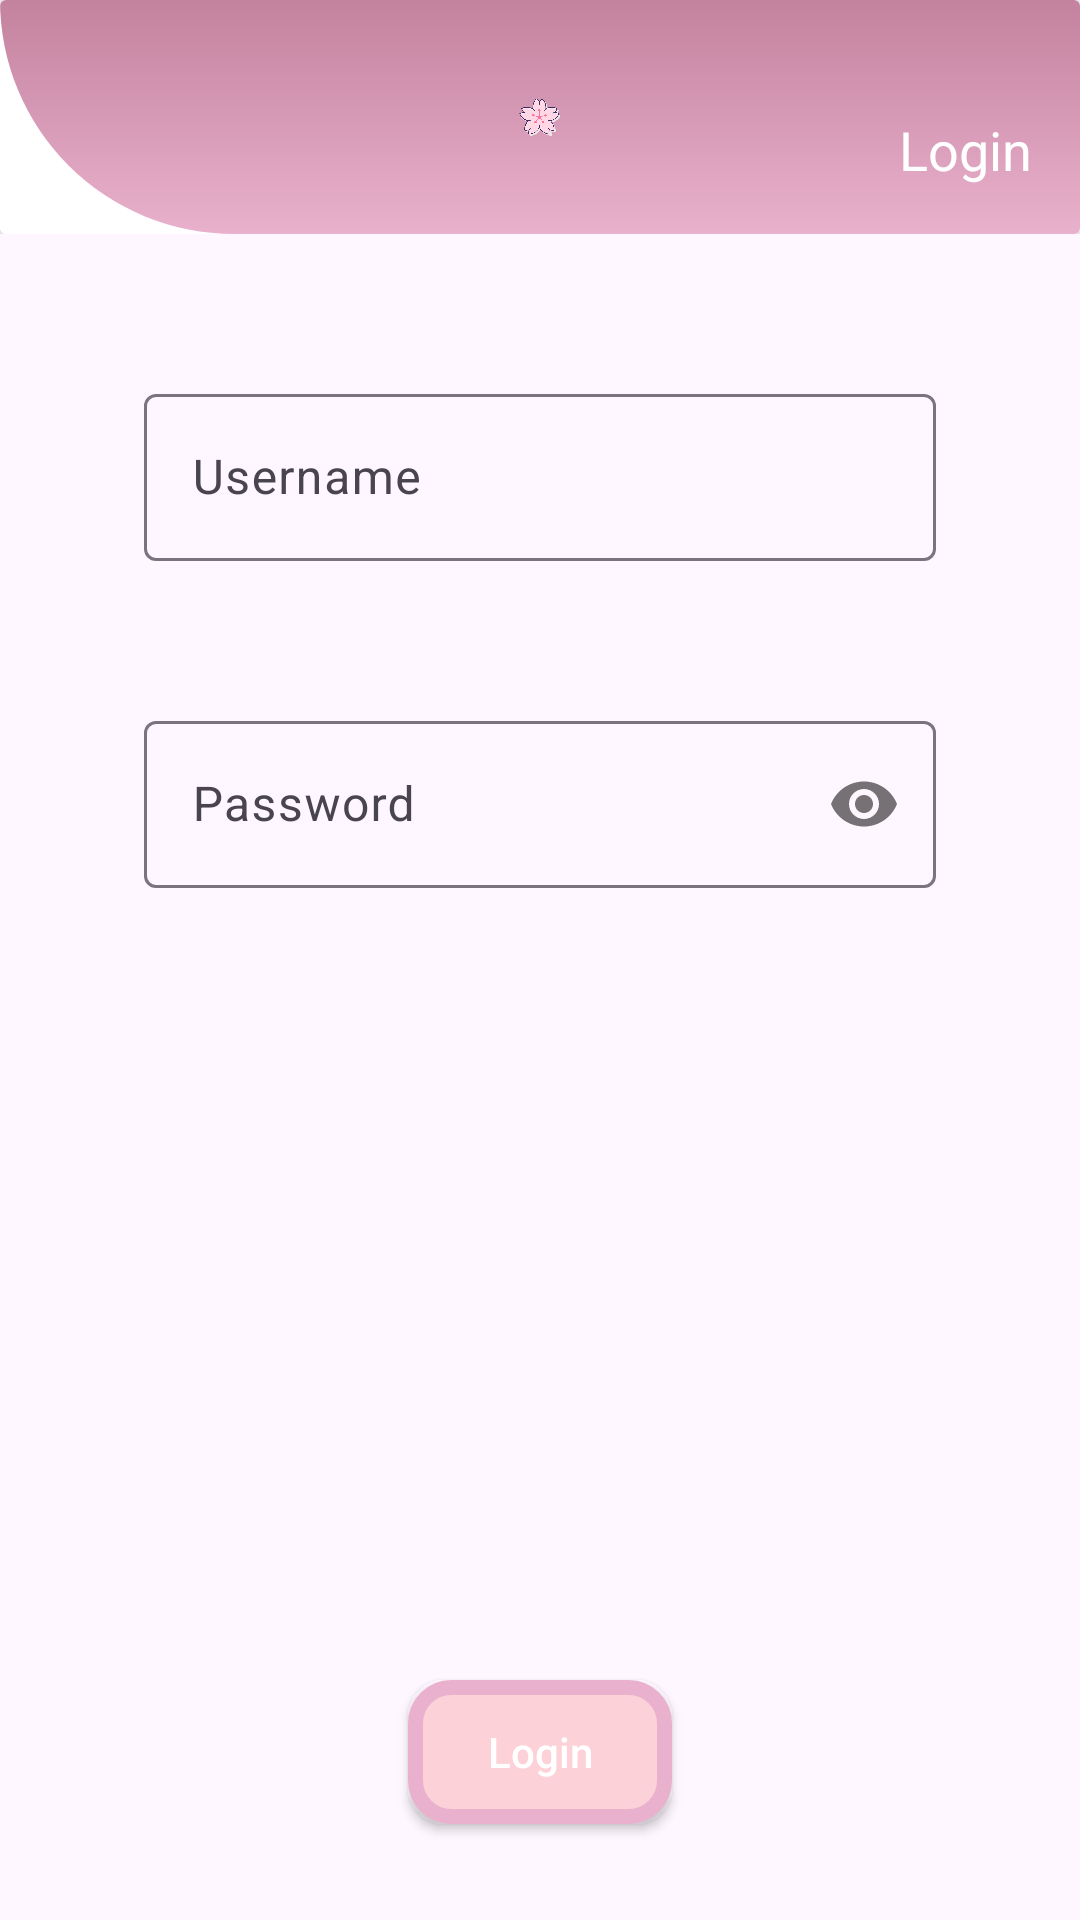

Where icons sit on this 1080 × 1920 app screen, as detection(x1, y1, x2, y2):
sakura flower: detection(519, 99, 560, 136)
